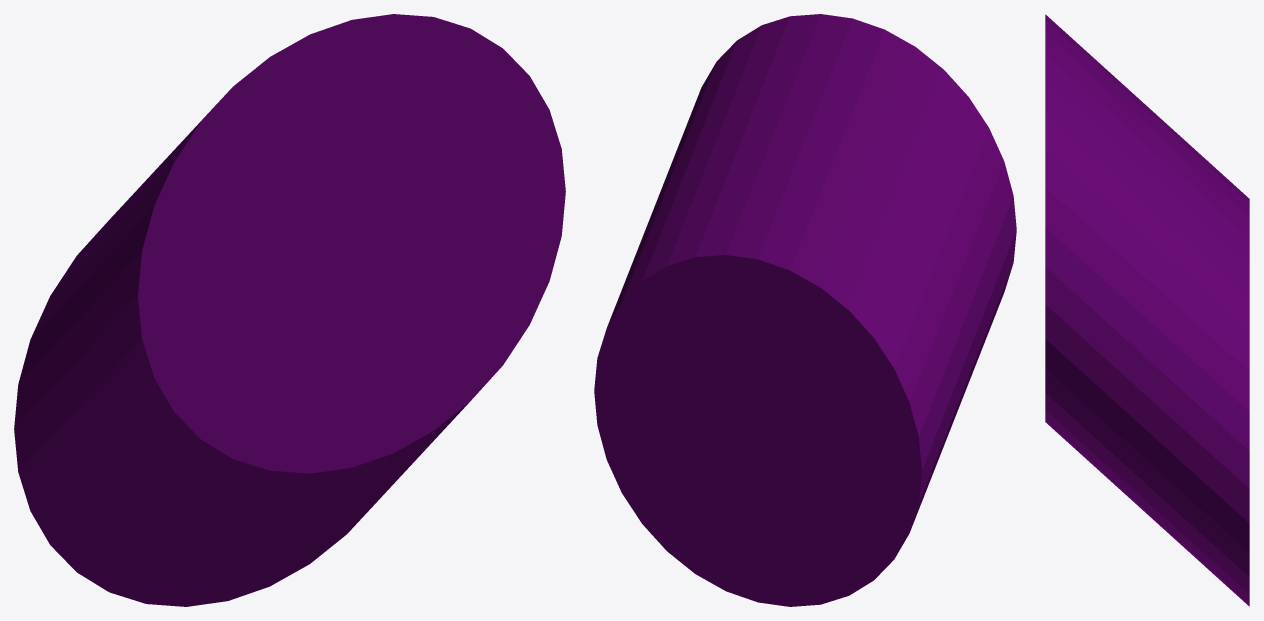
Rendered from tube incline 1.fbx.
3 renders of one model, left to right at view 1: azimuth 30°, elevation 25°; view 2: azimuth 150°, elevation 25°; view 3: azimuth 270°, elevation 25°, orthographic. The views are drawn at different scales.
Parts seen in each view (by area): view 1: Cylinder.001; view 2: Cylinder.001; view 3: Cylinder.001.
Part boxes in pixels (x1=…): Cylinder.001: x1=14, y1=14, x2=565, y2=606; Cylinder.001: x1=594, y1=14, x2=1016, y2=606; Cylinder.001: x1=1045, y1=14, x2=1249, y2=606.
Bounding box in the file's own units: 100 × 150 × 50.1.
